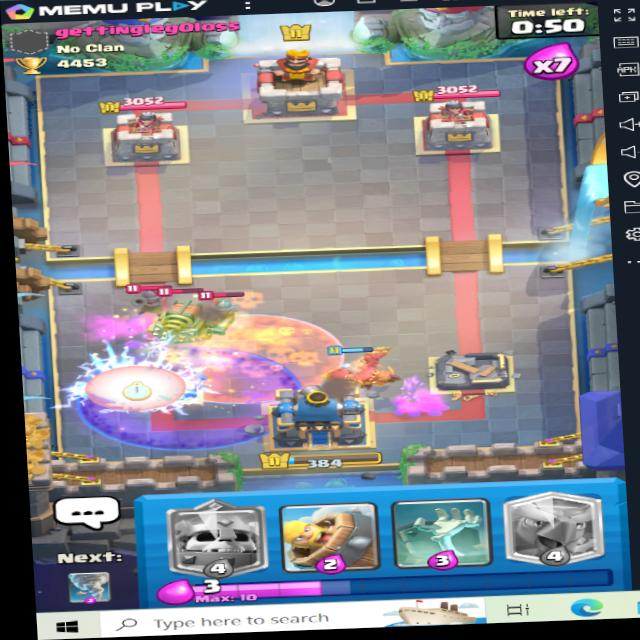Musketeer: (206, 287, 250, 327), (131, 280, 170, 319)
Sparky: (143, 290, 216, 348)
